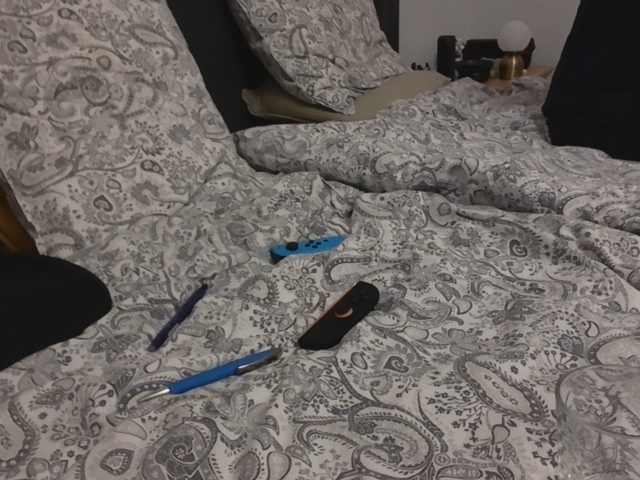glass: (547, 363, 640, 480)
joycon: (293, 282, 381, 353), (266, 233, 352, 264)
pen: (139, 342, 282, 405), (147, 280, 214, 355)
